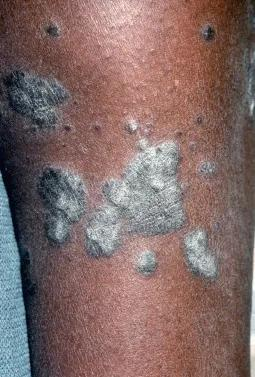hypertrophic lichen planus: (12, 23, 230, 304)
